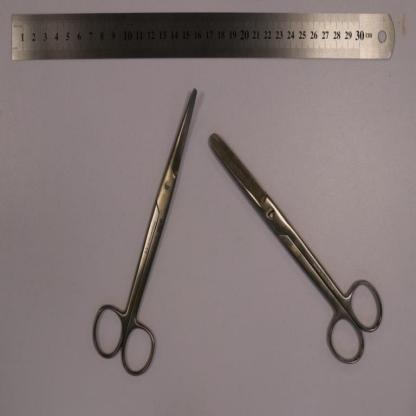Curved Mayo Scissors: (92, 85, 198, 380)
Dressing Scissors: (209, 132, 385, 366)
